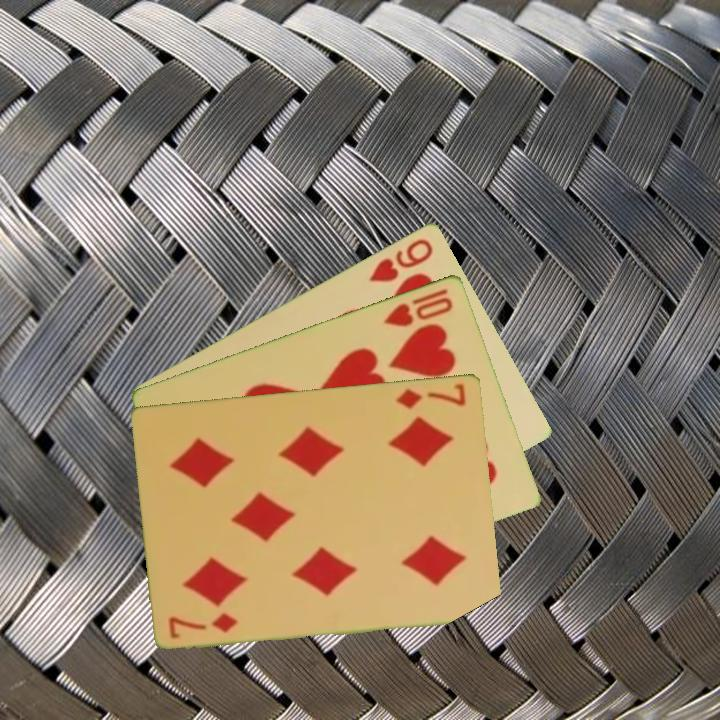10h: (381, 284, 456, 330)
7d: (392, 379, 469, 412), (165, 608, 241, 641)
9h: (366, 234, 436, 285)
